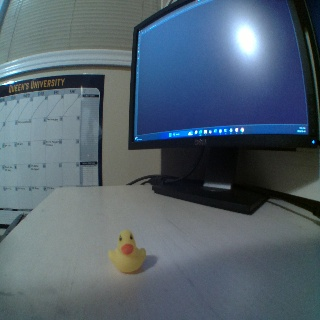duck_regular: (109, 227, 147, 272)
